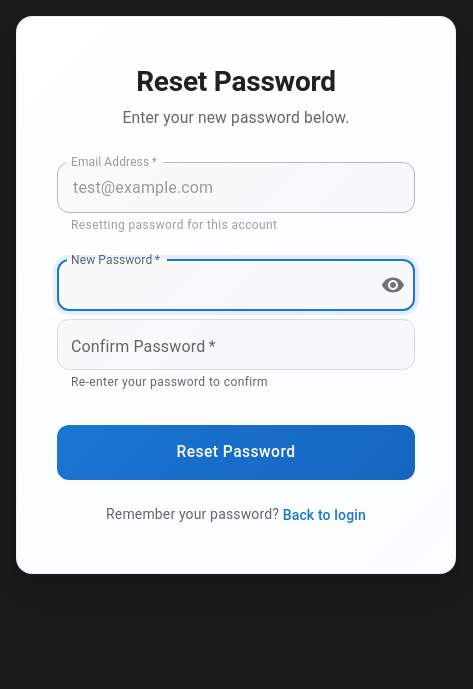
Test: PasswordResetConfirmForm › password strength › should show password strength indicator when password is entered
Expected: the text "password strength" is not shown
Step 1. Type "test" into the password field labelled "New Password *" → (211, 285), box 57,260 -> 365,311
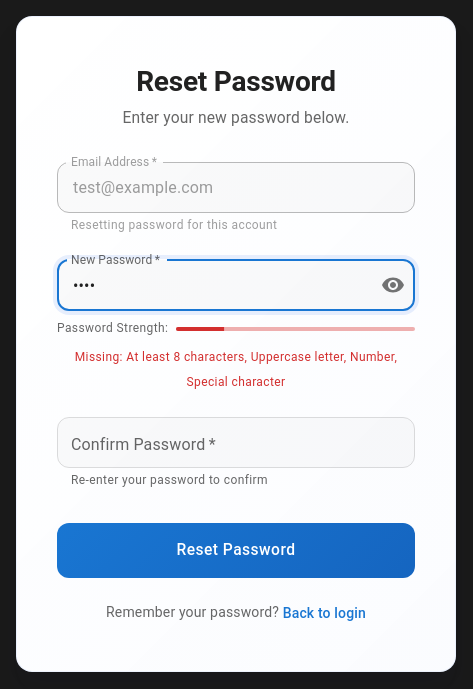
Expected: the text "Password Strength:" is shown, 57,319 -> 168,339
